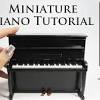Piano: (5, 25, 86, 100)
